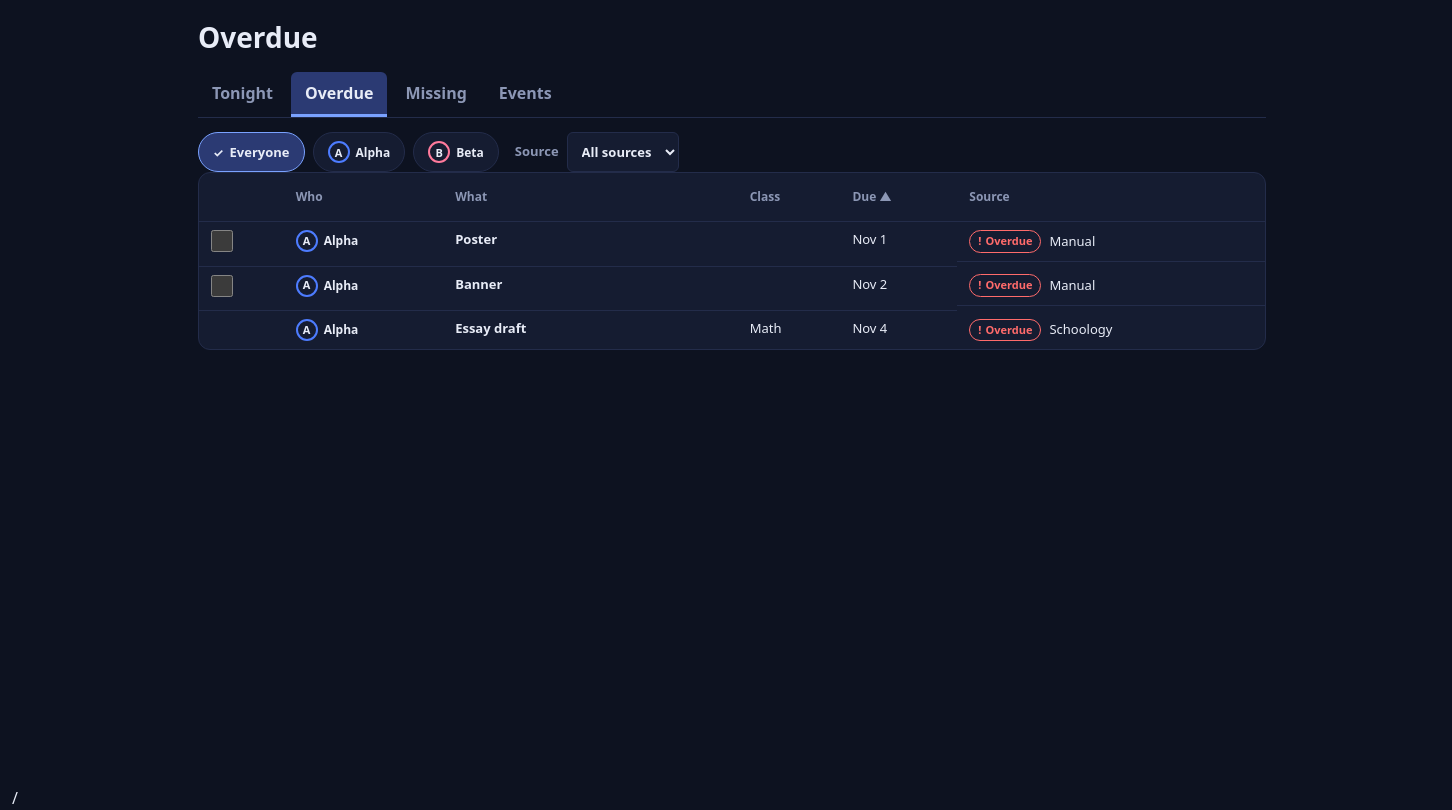
Test: the service-worker offline 503 is not reported as maintenance
The image size is (1452, 810).
Expected: the table is shown, [199,173,1265,349]
Click the checkbox named "poster" at [222, 241], box [211,230,233,252]
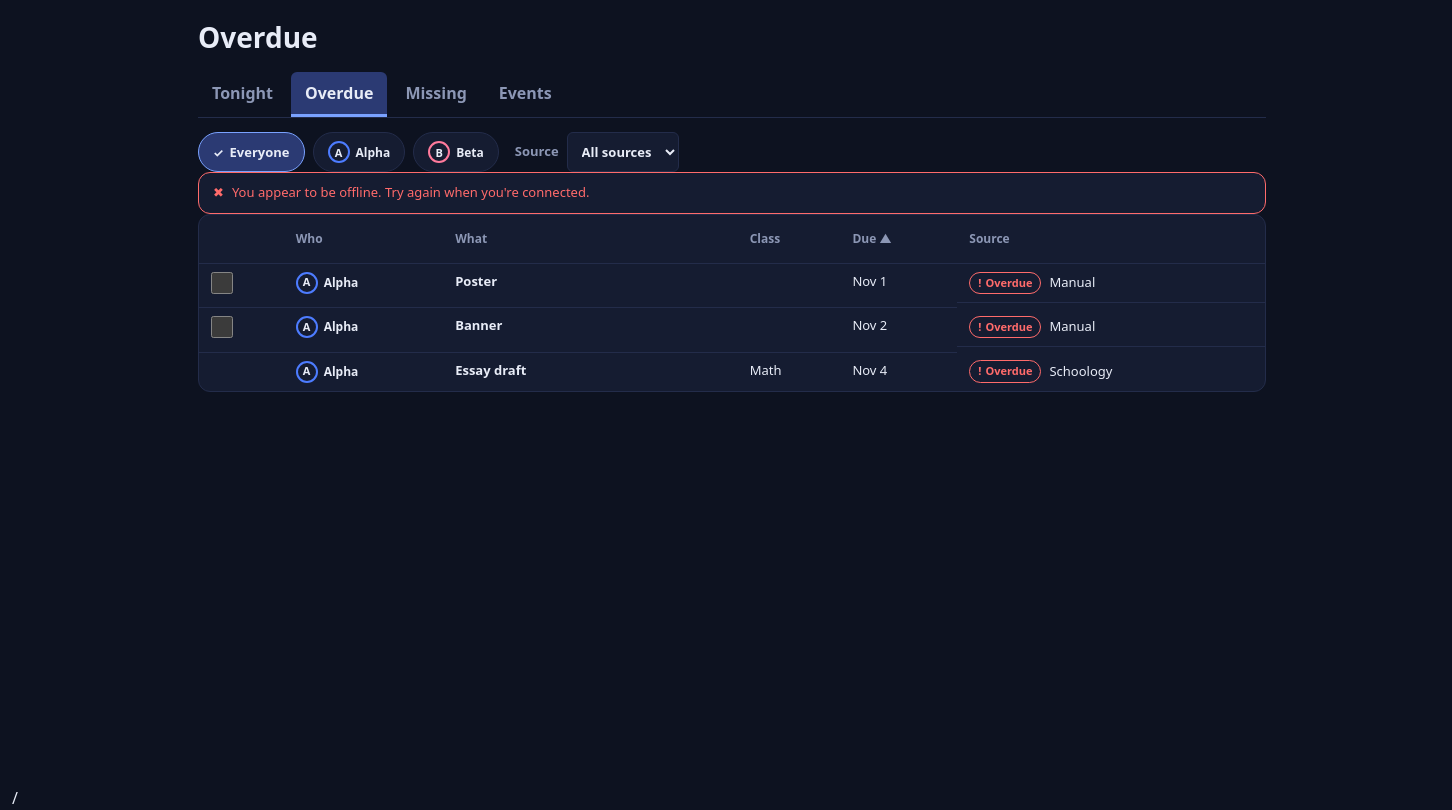
Expected: the cell "Poster" is shown, [443,263,738,308]
Now the message reads "✖ You appear to be offline. Try again when you're connected.", box [198,172,1266,214]
